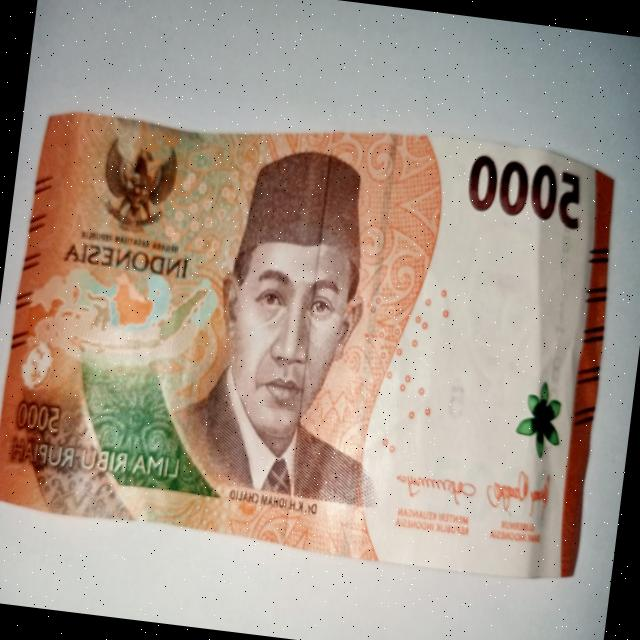5K: (0, 74, 634, 591)
